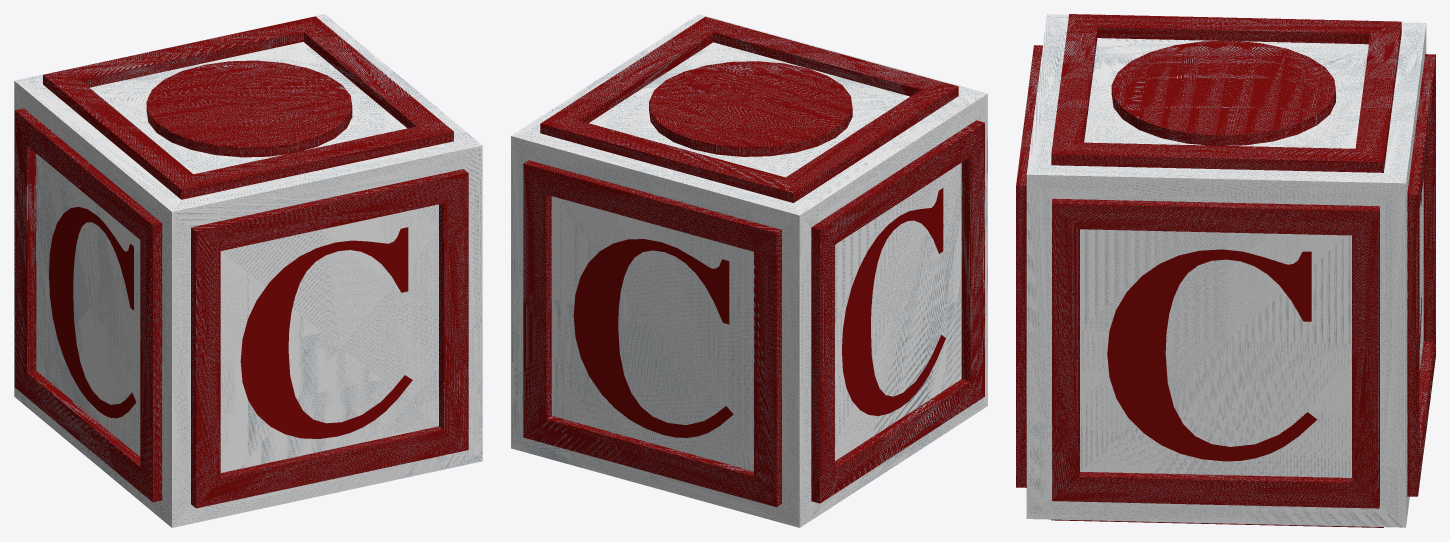
3 views of the same model, side by side, from view 1: azimuth 30°, elevation 25°; view 2: azimuth 150°, elevation 25°; view 3: azimuth 270°, elevation 25° (orthographic). The views are drawn at different scales.
Parts seen in each view (by area): view 1: Component_22 (×12), C (×2); view 2: Component_22 (×12), C (×2); view 3: Component_22 (×14), C.
Boxes of the visible parts, x1,y1,x2,y2 form: Component_22 (×12): (14, 14, 482, 527); C (×2): (49, 206, 412, 438); Component_22 (×12): (511, 14, 987, 527); C (×2): (573, 188, 945, 437); Component_22 (×14): (1016, 14, 1435, 527); C: (1107, 249, 1317, 461).
Size of the model in its own units: 2.21 by 2.21 by 2.12.
